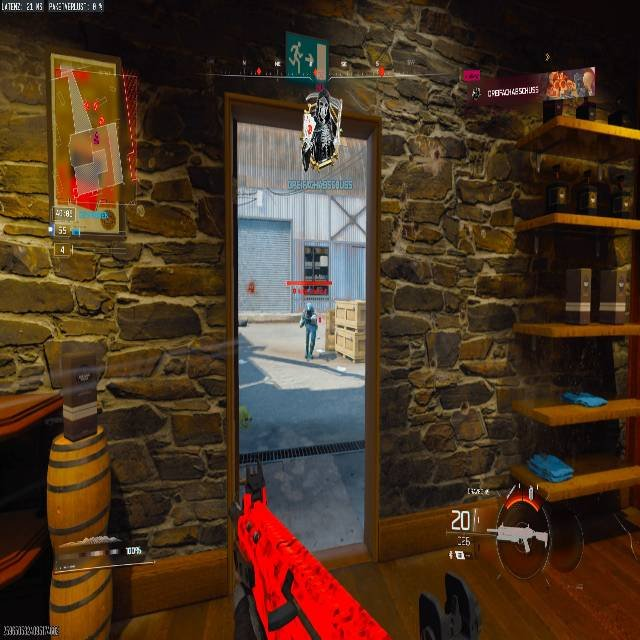head: (306, 304, 314, 313)
player: (301, 82, 341, 169), (299, 304, 320, 360)
